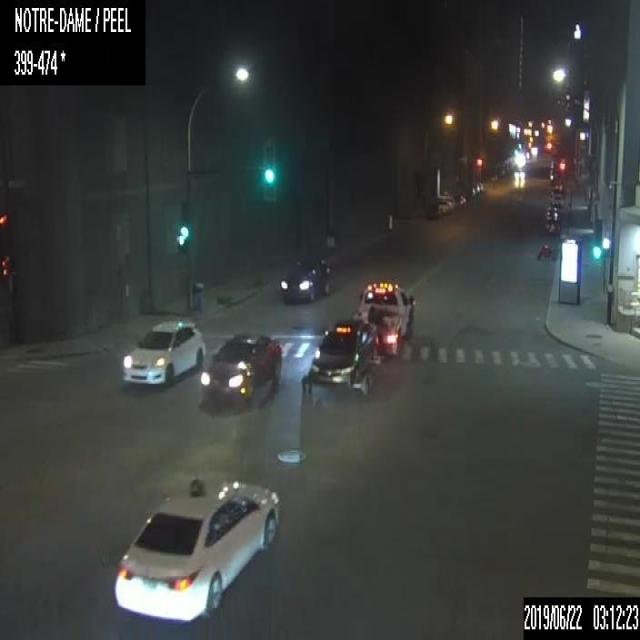vehicle: (114, 474, 286, 622), (304, 277, 414, 392), (201, 331, 281, 404), (121, 317, 205, 386), (310, 318, 376, 382), (276, 250, 334, 302), (544, 212, 560, 234), (536, 243, 556, 260), (427, 204, 442, 219), (461, 186, 475, 200), (437, 200, 451, 213), (551, 192, 563, 207), (467, 183, 479, 198), (470, 181, 482, 194), (455, 193, 466, 207), (546, 203, 558, 214), (514, 168, 524, 178)
